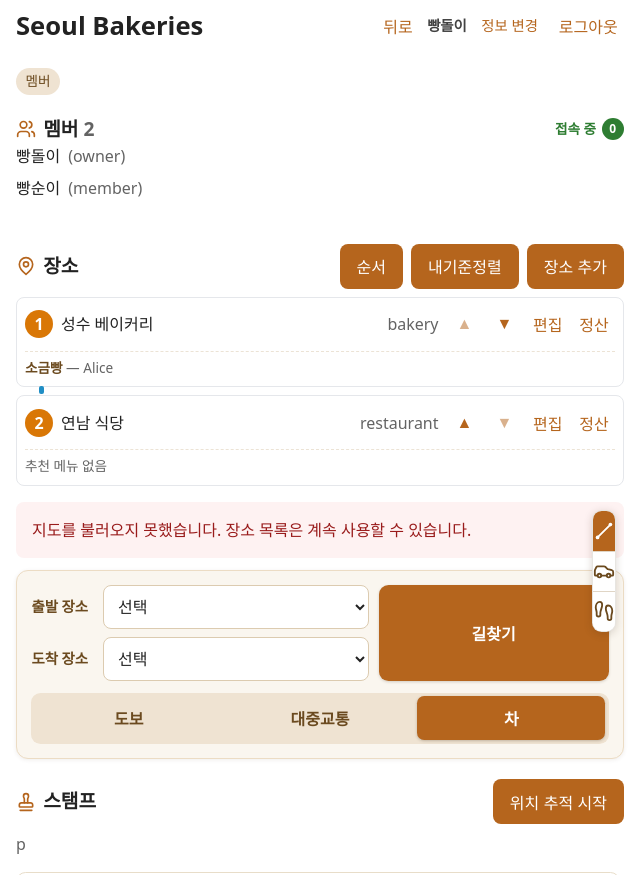
Test case: TourDetail "내기준정렬" local distance sort (Feature) › shows a Korean error and does NOT reorder when no location is available
Expected: the element with test id "spots-panel" is shown, [16, 244, 624, 759]
Click the button "내기준정렬": coordinates (465, 266) [411, 244, 519, 289]
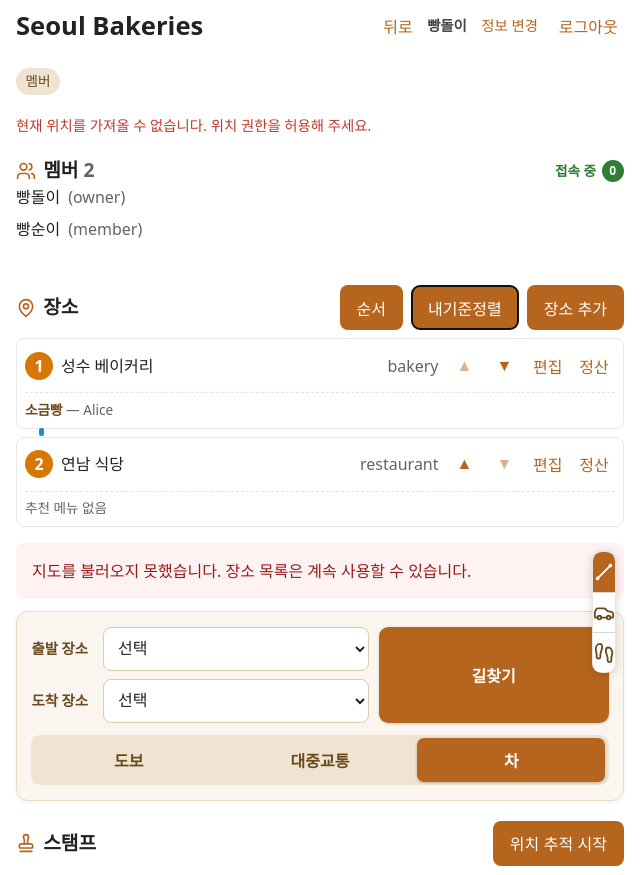
Now the text "현재 위치를 가져올 수 없습니다. 위치 권한을 허용해 주세요." is shown, box [16, 116, 371, 135]
